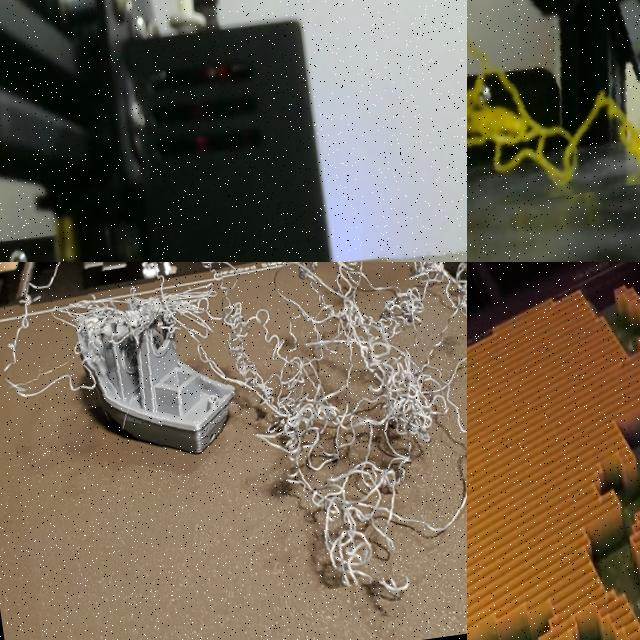spaghetti: (0, 262, 467, 635), (467, 35, 640, 185)
